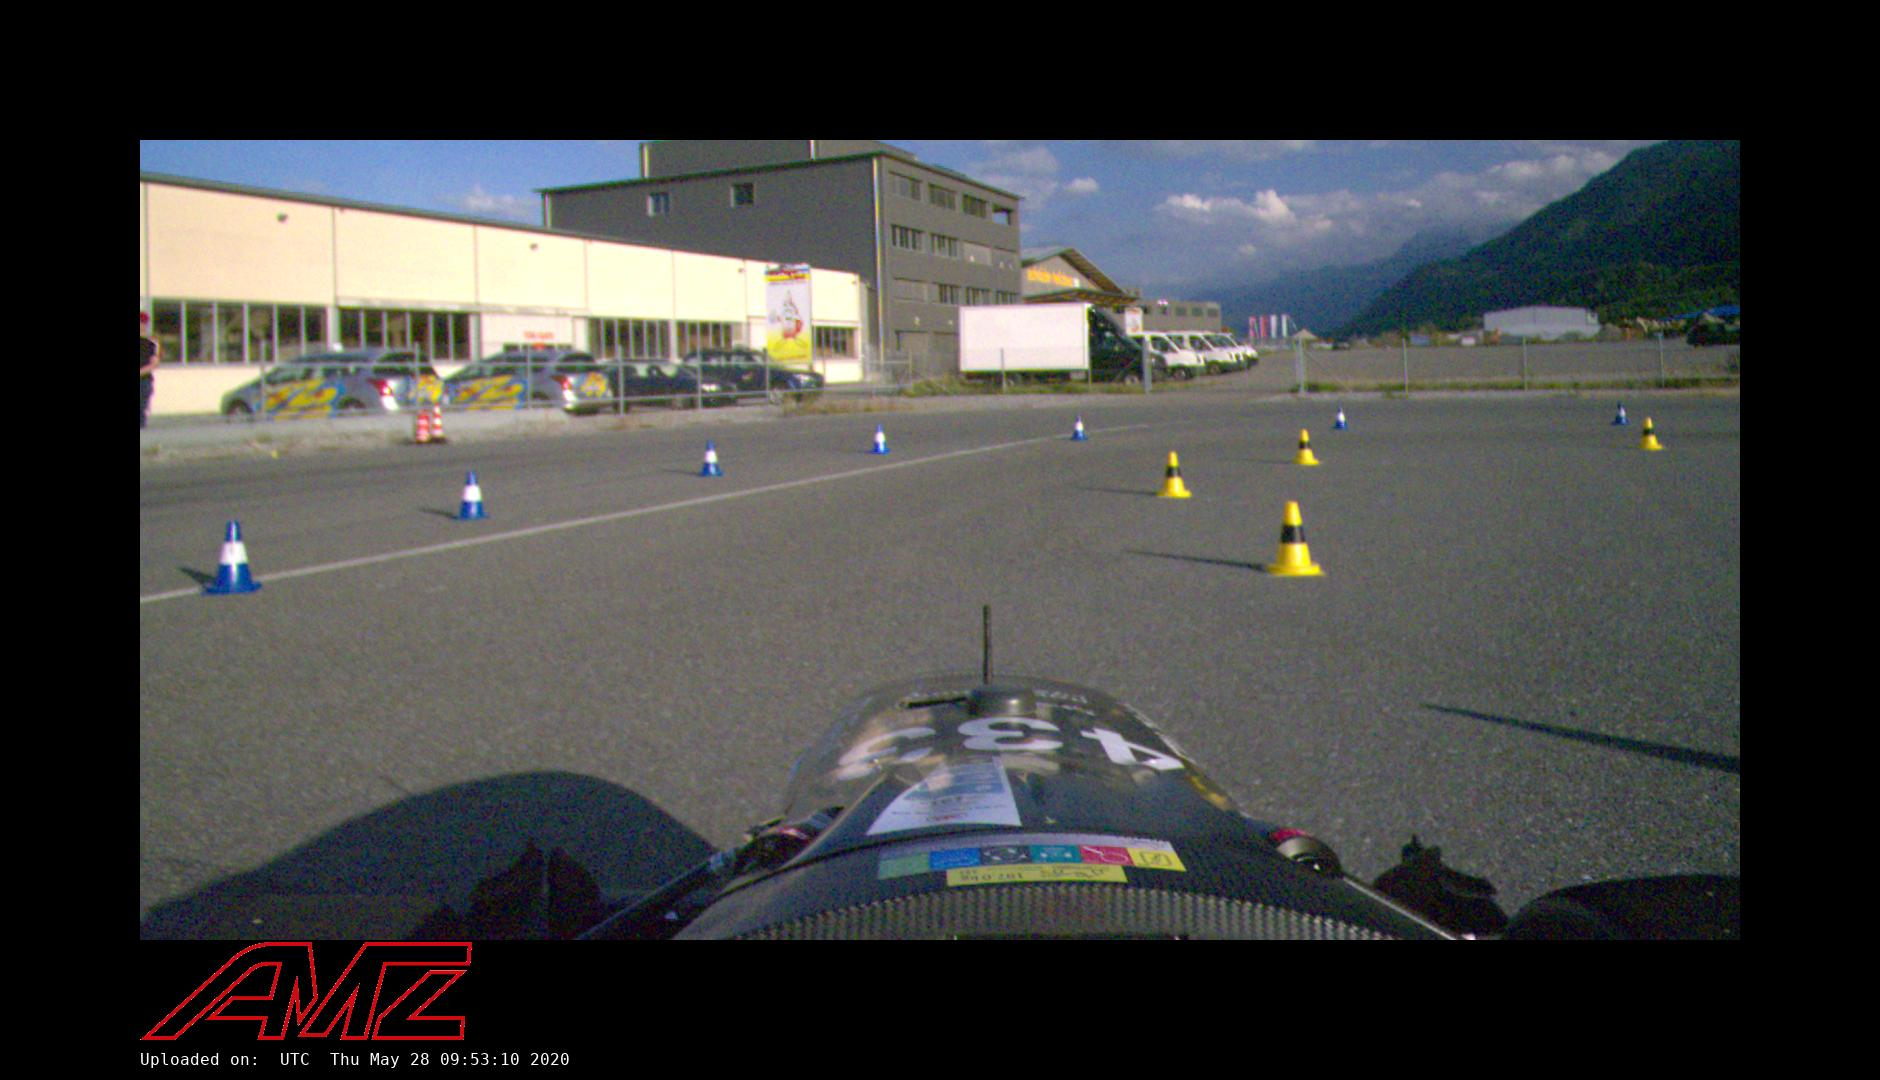blue_cone: (205, 523, 260, 593), (455, 472, 489, 519), (700, 441, 722, 475), (872, 425, 890, 453), (1070, 416, 1088, 441), (1333, 407, 1349, 430), (1613, 404, 1630, 425)
yellow_cone: (1271, 500, 1322, 574), (1157, 451, 1190, 497), (1292, 429, 1318, 464), (1636, 419, 1660, 450)
